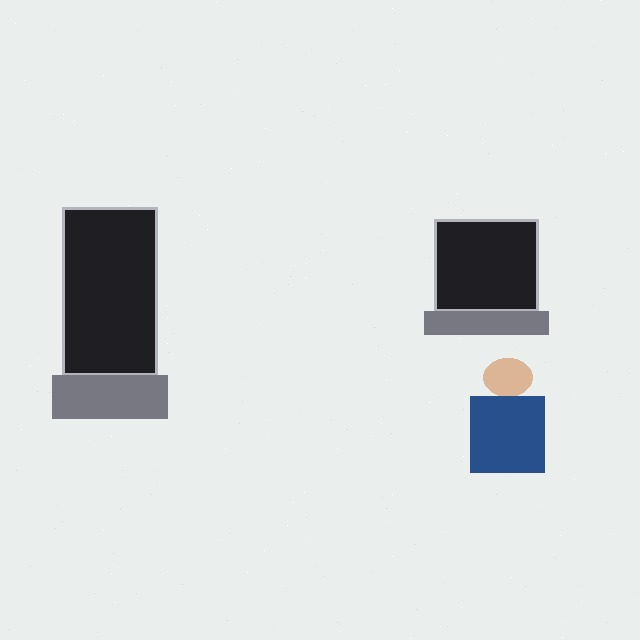laptop: (62, 207, 157, 418), (434, 219, 538, 334)
person: (434, 358, 581, 472)
